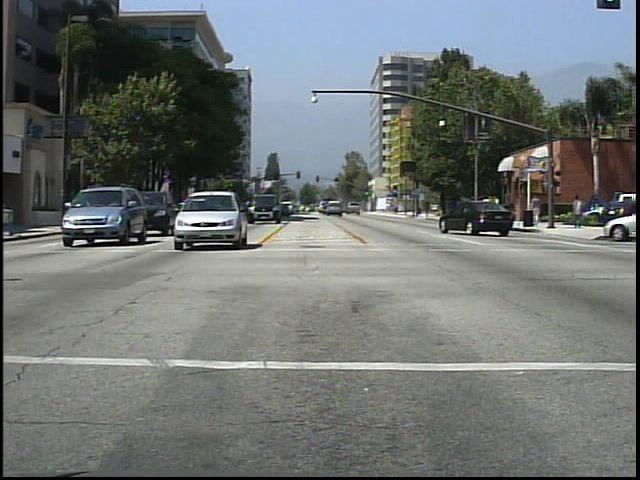person: (570, 193, 587, 232), (531, 193, 545, 229)
